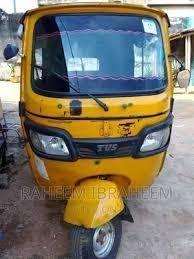keke: (8, 5, 182, 259)
